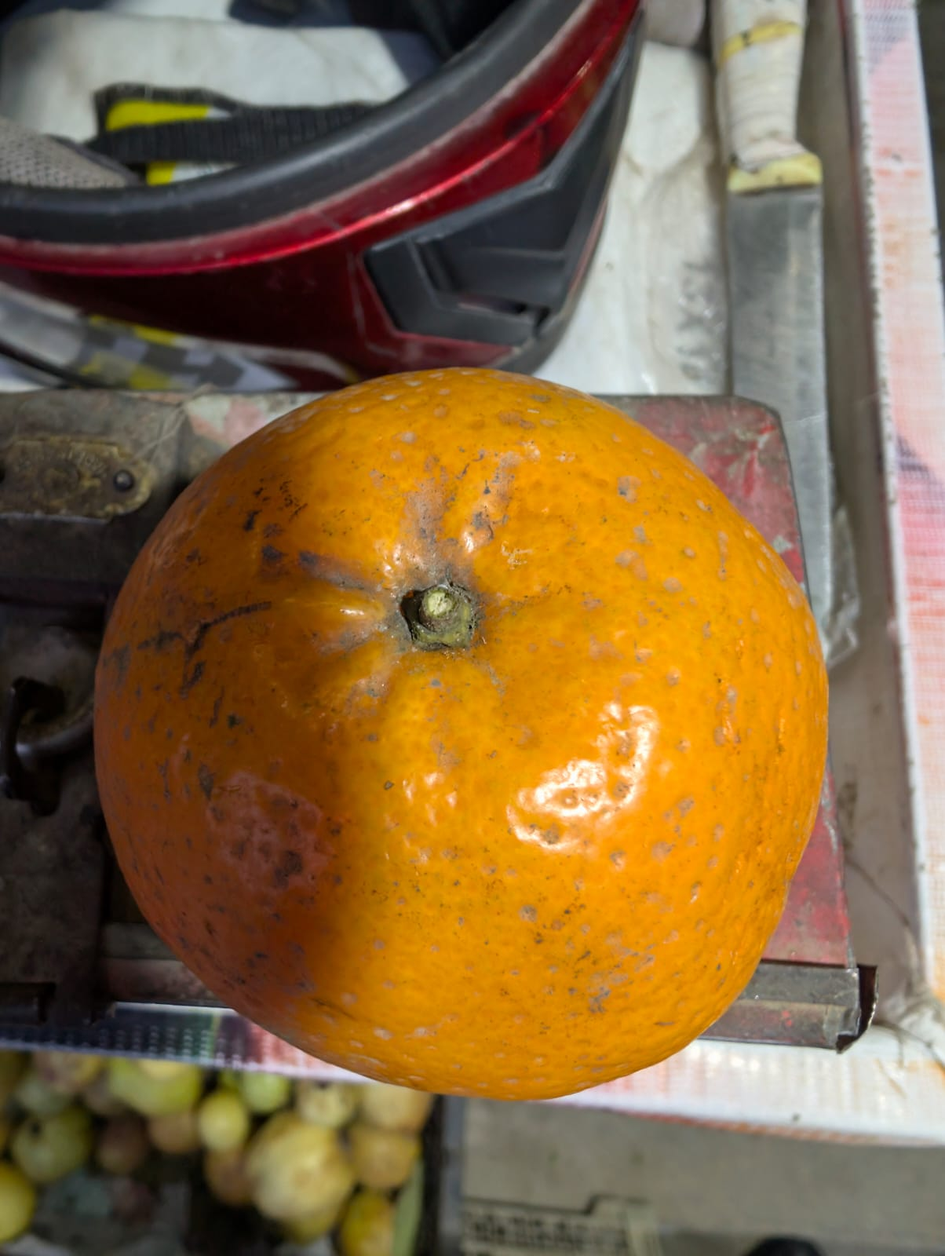orange: (157, 203, 823, 1058)
